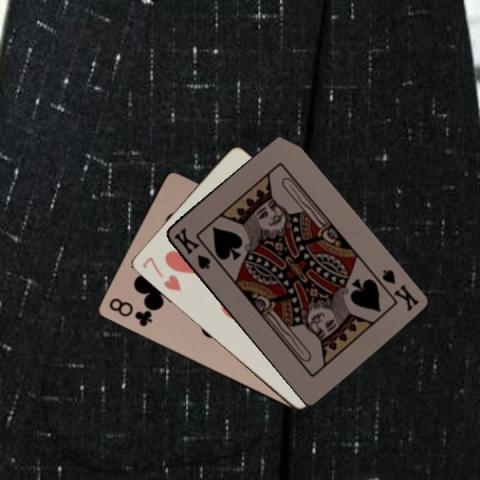7h: (138, 254, 182, 293)
8c: (106, 294, 154, 328)
Ks: (378, 266, 420, 313), (170, 224, 212, 270)
